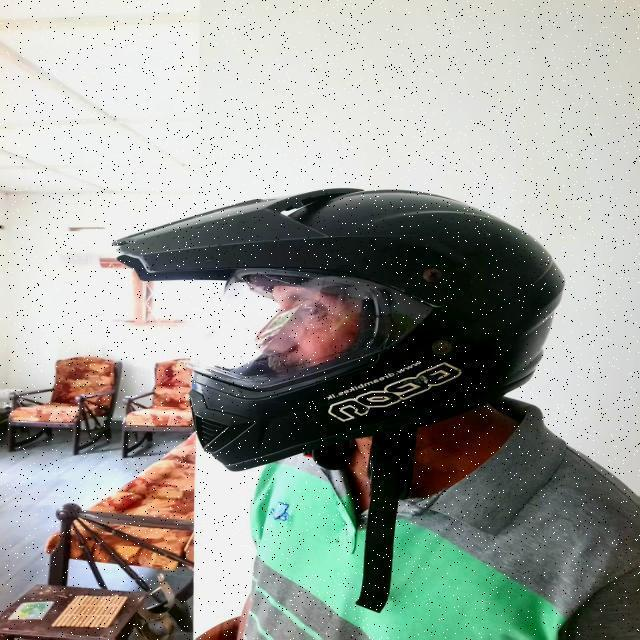helmet: (113, 186, 564, 613)
